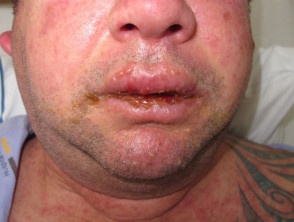SJS-TEN: (59, 77, 208, 132), (103, 61, 141, 87)
